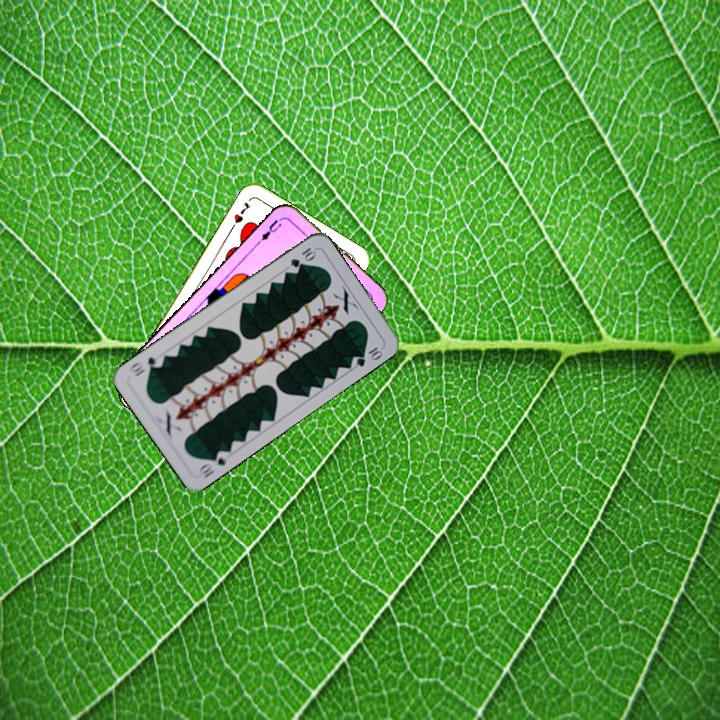EU: (257, 215, 284, 243)
G10: (194, 446, 230, 481), (286, 243, 318, 270)
H7: (227, 198, 254, 232)
